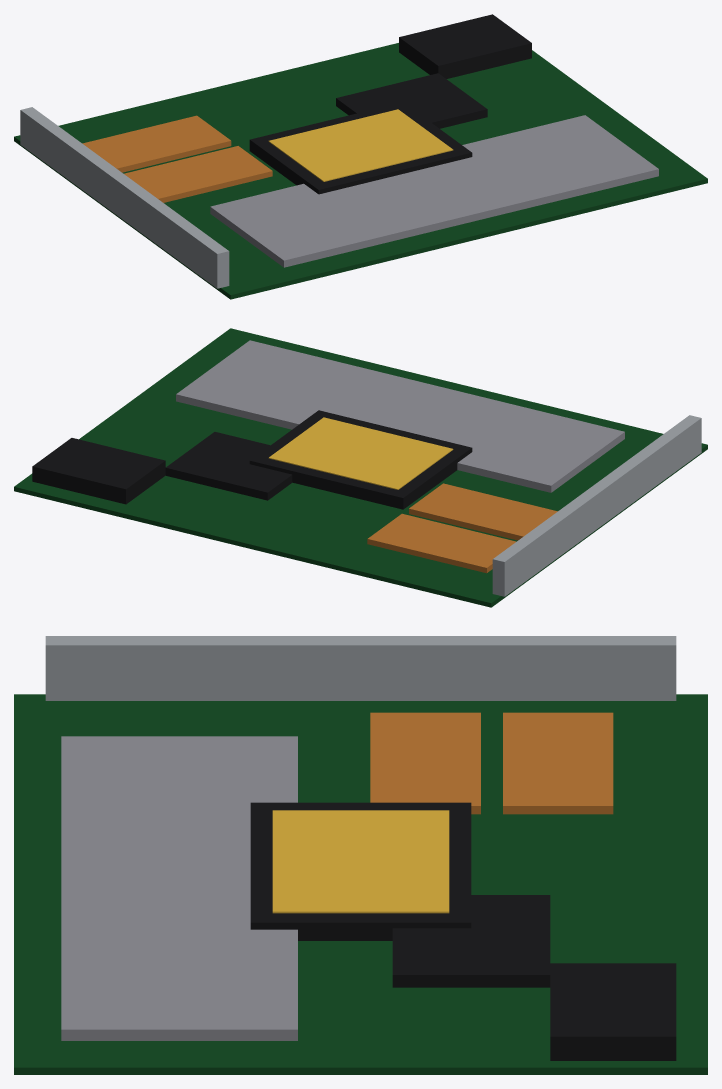
File: motherboard.obj
The picture shows the model from 3 angles, top to bottom: view 1: azimuth 30°, elevation 25°; view 2: azimuth 150°, elevation 25°; view 3: azimuth 270°, elevation 25°; orthographic projection. The views are drawn at different scales.
Parts seen in each view (by area): view 1: PCB, PCI_SLOTS, IO_PORTS, CPU_pins, POWER_CONNECTORS, CPU, RAM_SLOTS, RAM_SLOTS_b, CHIPSET; view 2: PCB, PCI_SLOTS, IO_PORTS, CPU_pins, POWER_CONNECTORS, CPU, CHIPSET, RAM_SLOTS, RAM_SLOTS_b; view 3: PCB, PCI_SLOTS, IO_PORTS, CPU_pins, POWER_CONNECTORS, CHIPSET, RAM_SLOTS, CPU, RAM_SLOTS_b.
Part boxes in pixels (<box>): PCB: <box>14,43,707,299</box>; PCI_SLOTS: <box>210,115,658,267</box>; IO_PORTS: <box>20,107,229,288</box>; CPU_pins: <box>268,109,453,181</box>; POWER_CONNECTORS: <box>399,14,531,78</box>; CPU: <box>249,102,472,194</box>; RAM_SLOTS: <box>82,115,231,172</box>; RAM_SLOTS_b: <box>124,146,272,202</box>; CHIPSET: <box>336,73,487,128</box>; PCB: <box>14,328,707,607</box>; PCI_SLOTS: <box>176,340,624,492</box>; IO_PORTS: <box>492,415,701,596</box>; CPU_pins: <box>268,417,453,489</box>; POWER_CONNECTORS: <box>32,438,165,504</box>; CPU: <box>249,410,472,509</box>; CHIPSET: <box>165,432,292,500</box>; RAM_SLOTS: <box>367,513,515,573</box>; RAM_SLOTS_b: <box>409,483,557,540</box>; PCB: <box>14,694,707,1074</box>; PCI_SLOTS: <box>61,736,297,1040</box>; IO_PORTS: <box>45,636,676,700</box>; CPU_pins: <box>272,810,449,913</box>; POWER_CONNECTORS: <box>550,963,676,1060</box>; CHIPSET: <box>392,895,550,987</box>; RAM_SLOTS: <box>503,712,613,814</box>; CPU: <box>250,802,471,940</box>; RAM_SLOTS_b: <box>370,712,480,814</box>.
Bounding box in the file's own units: 28.2 × 2.2 × 22.
